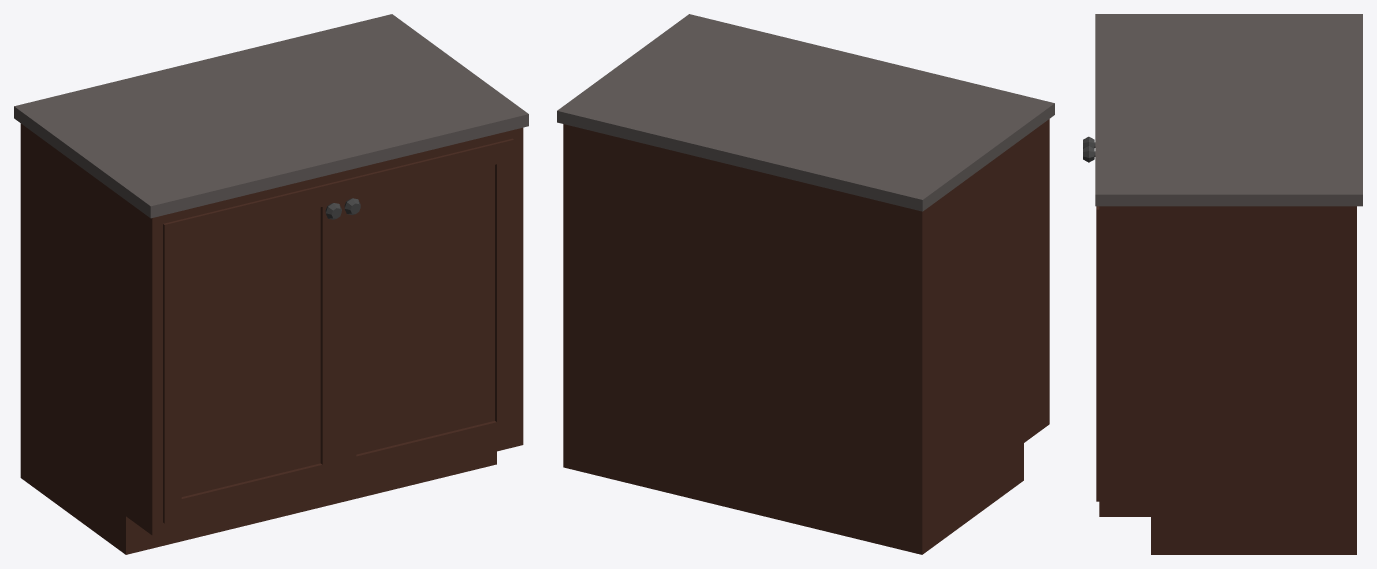
File: DoubleDoorBaseCabinet1.glb
3 views of the same model, side by side, from view 1: azimuth 30°, elevation 25°; view 2: azimuth 150°, elevation 25°; view 3: azimuth 270°, elevation 25° (orthographic). The views are drawn at different scales.
Parts seen in each view (by area): view 1: DoubleDoorbaseCabinet1, DoorR1SingleDoorbaseCabinet1, DoorL1SingleDoorbaseCabinet1; view 2: DoubleDoorbaseCabinet1; view 3: DoubleDoorbaseCabinet1, DoorL1SingleDoorbaseCabinet1.
Boxes of the visible parts, x1,y1,x2,y2 form: DoubleDoorbaseCabinet1: (14,14,528,554); DoorR1SingleDoorbaseCabinet1: (163,181,341,523); DoorL1SingleDoorbaseCabinet1: (338,138,513,480); DoubleDoorbaseCabinet1: (557,14,1054,554); DoubleDoorbaseCabinet1: (1095,14,1362,554); DoorL1SingleDoorbaseCabinet1: (1083,145,1099,501).
Size of the model in its own units: 0.9707 by 0.9081 by 0.6359.
